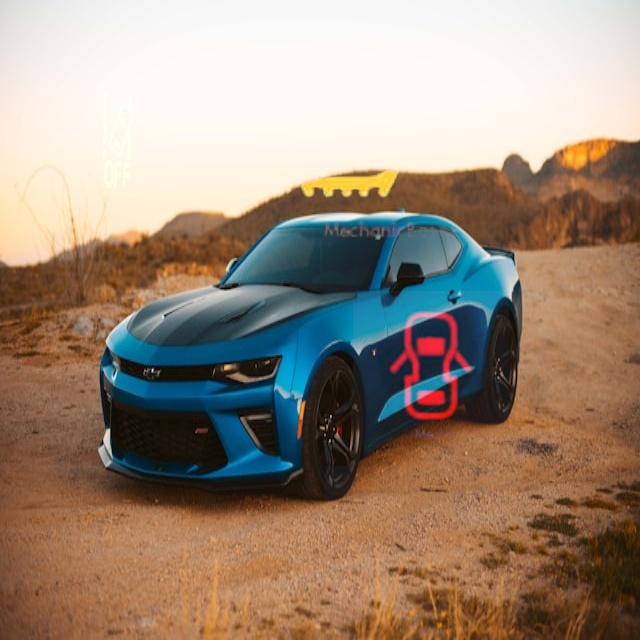symbol: (239, 32, 455, 248), (16, 48, 210, 242), (353, 291, 509, 447), (325, 466, 475, 616)
